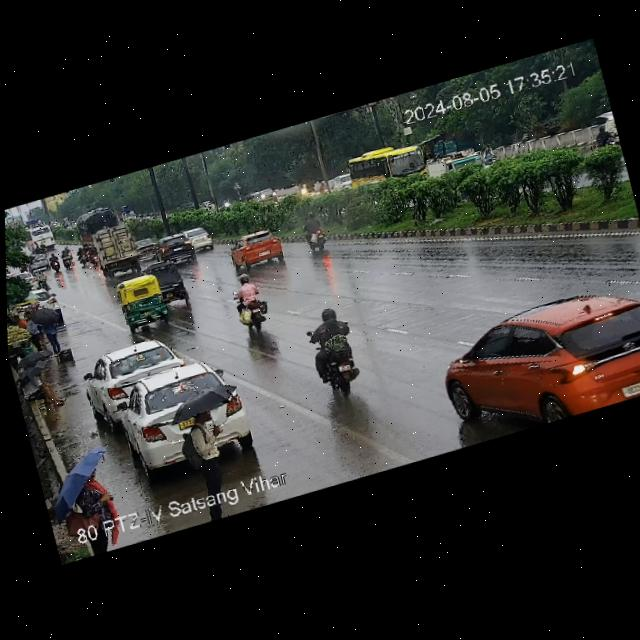bus: (341, 134, 437, 201), (25, 223, 57, 251)
car: (429, 274, 640, 449), (112, 357, 248, 480), (79, 331, 191, 420), (113, 268, 177, 334), (224, 226, 292, 275), (152, 258, 191, 311), (175, 222, 218, 255), (156, 230, 194, 267), (40, 287, 66, 323), (135, 233, 160, 263), (239, 188, 261, 211), (29, 251, 51, 273), (259, 184, 277, 203)
motorcycle: (303, 298, 366, 403), (219, 270, 274, 337), (299, 207, 336, 254), (73, 239, 100, 274), (590, 119, 616, 151), (58, 245, 75, 272), (480, 144, 499, 166), (48, 250, 63, 273), (34, 268, 49, 289), (33, 238, 47, 255), (295, 181, 308, 197), (317, 181, 327, 194)
person: (174, 395, 246, 486), (13, 353, 71, 413), (20, 297, 71, 359), (71, 467, 116, 517)
truck: (91, 219, 152, 284), (426, 143, 484, 183), (74, 203, 121, 242)
